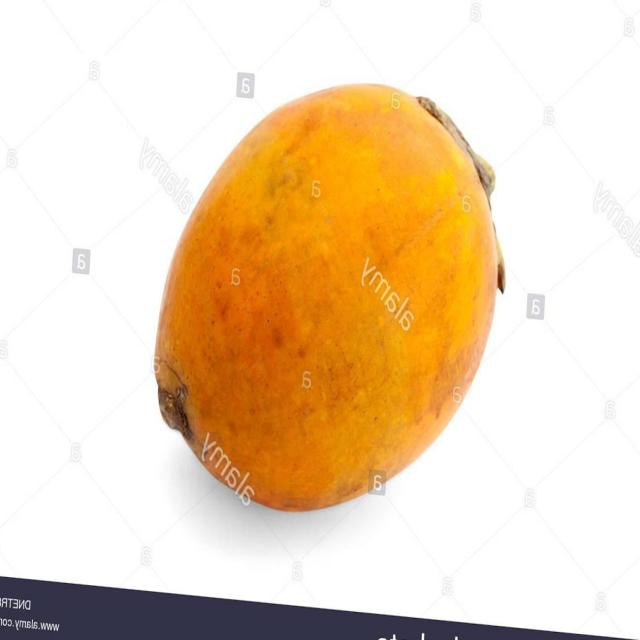good: (152, 84, 505, 515)
